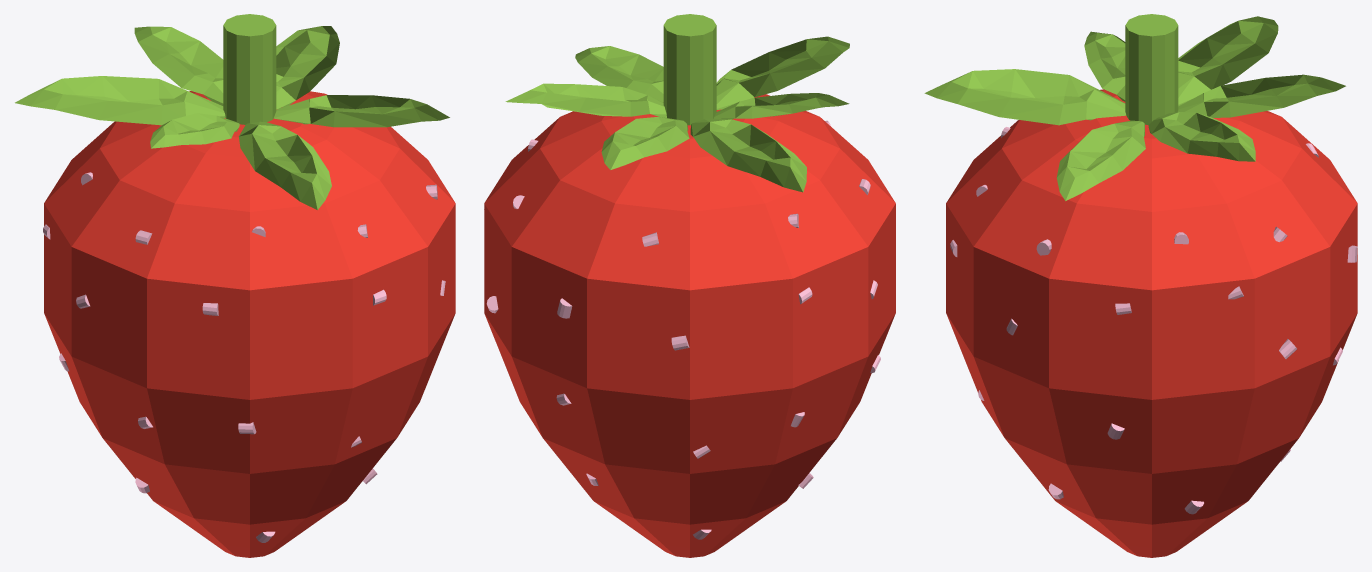
The model's file is strawberry.fbx.
The picture shows the model from 3 angles, left to right: view 1: azimuth 30°, elevation 25°; view 2: azimuth 150°, elevation 25°; view 3: azimuth 270°, elevation 25°; orthographic projection.
Parts seen in each view (by area): view 1: model; view 2: model; view 3: model.
Part boxes in pixels (x1,y1,x2,y2): model: (15, 14, 455, 557); model: (484, 14, 895, 557); model: (924, 14, 1357, 557).
Bounding box in the file's own units: 272 × 380 × 287.
